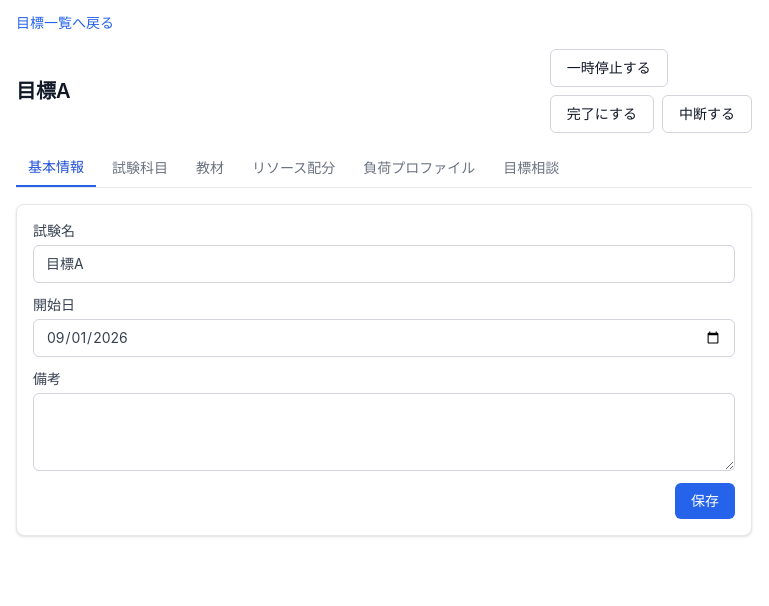
Test: GoalDetailPage の種別ごとのタブ構成 › renders the goal consultation tab content for an exam goal
The width and height of the screenshot is (769, 606).
Expected: the heading "目標A" is shown, [16,77,71,105]
Click the button "目標相談" at (531, 168), box [491,149,571,187]
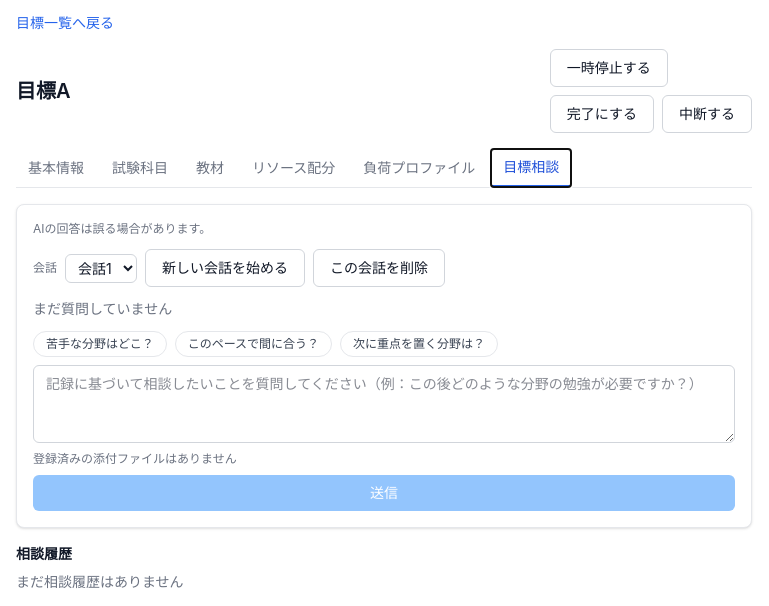
Result: the text "AIの回答は誤る場合があります。" is shown at [33,221,211,236]
